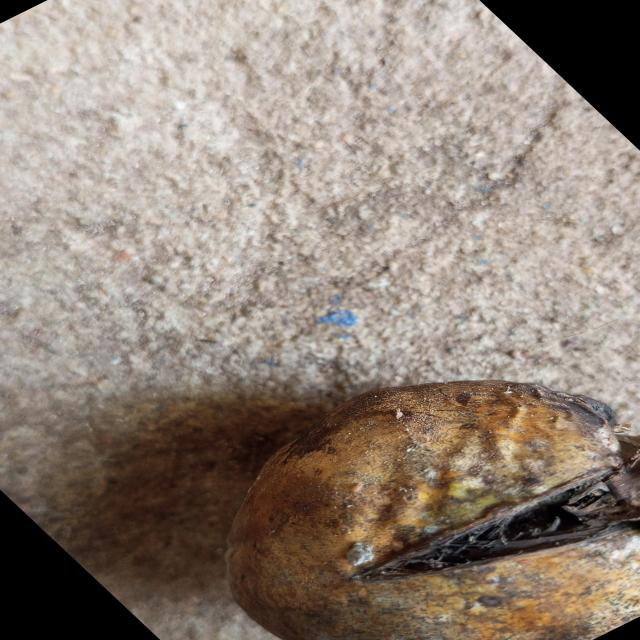damaged: (225, 381, 640, 640)
